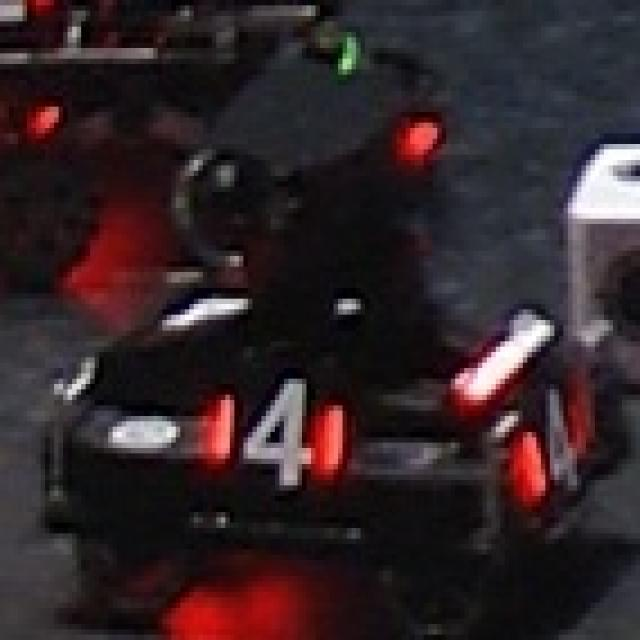R4: (208, 374, 342, 486), (514, 384, 590, 501)
